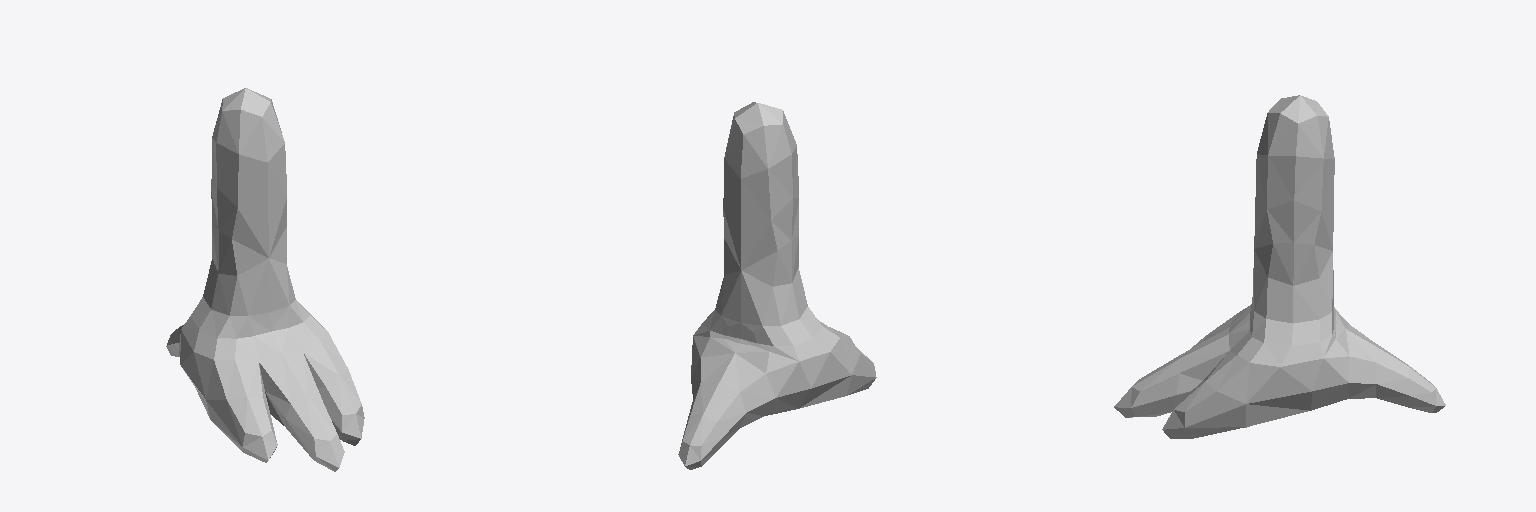
The model's file is birdupleg 1.obj.
The picture shows the model from 3 angles: view 1: azimuth 30°, elevation 25°; view 2: azimuth 150°, elevation 25°; view 3: azimuth 270°, elevation 25°; orthographic projection.
Parts seen in each view (by area): view 1: Cube.002_Cube.001; view 2: Cube.002_Cube.001; view 3: Cube.002_Cube.001.
Boxes of the visible parts, <box> form: Cube.002_Cube.001: <box>166,88,364,471</box>; Cube.002_Cube.001: <box>678,102,876,469</box>; Cube.002_Cube.001: <box>1114,95,1445,438</box>.
Bounding box in the file's own units: 0.3877 × 0.891 × 0.8346.